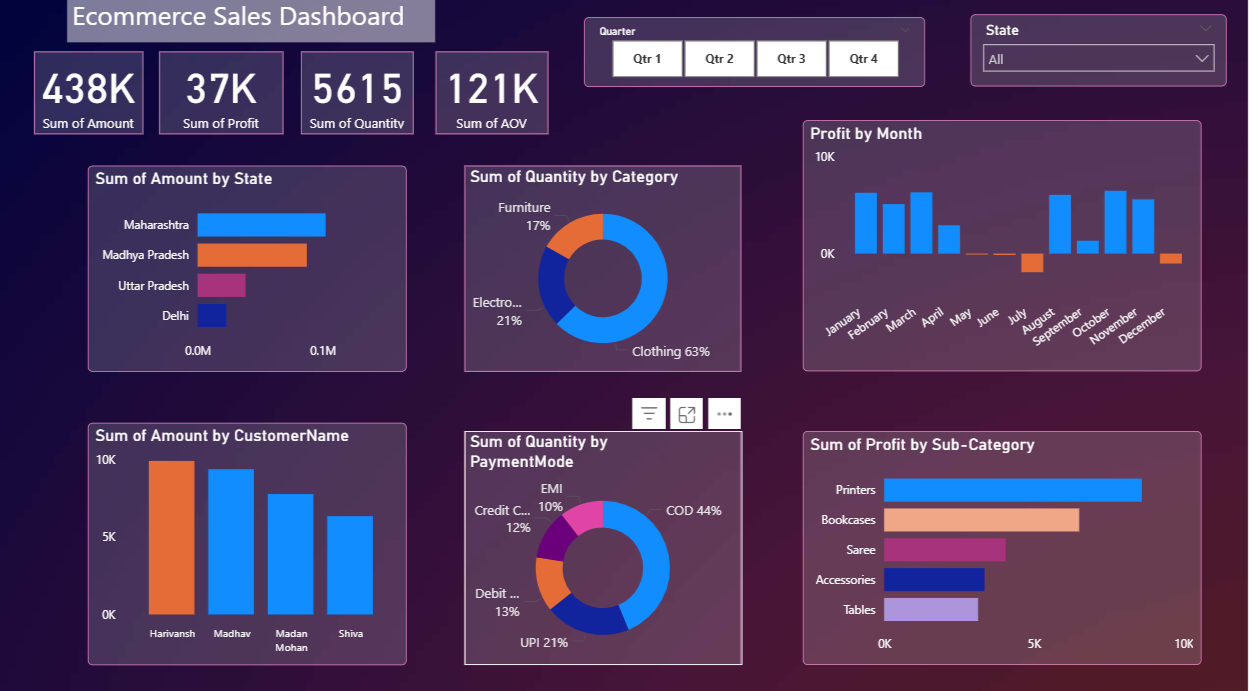

Layout of this report page (visuals, bound fields, positions):
{"tool":"powerbi","page":{"name":"Page 1","canvas":[1280,720],"ordinal":0},"visuals":[{"type":"textbox","box":[76.2,0,375,52.5],"z":0},{"type":"columnChart","title":"Profit by Month","fields":{"Y":["Sum(Details.Profit)"],"Category":["Orders.Order Date.Variation.Date Hierarchy.Month"]},"box":[826.2,131.2,406.2,256.2],"z":1000},{"type":"barChart","fields":{"Category":["Details.Sub-Category"],"Y":["Sum(Details.Profit)"]},"box":[826.2,448.8,406.2,238.8],"z":2000},{"type":"donutChart","fields":{"Category":["Details.Category"],"Y":["Sum(Details.Quantity)"]},"box":[481.2,177.5,282.5,210],"z":3000},{"type":"donutChart","fields":{"Category":["Details.PaymentMode"],"Y":["Sum(Details.Quantity)"]},"box":[481.2,448.8,282.5,238.8],"z":4000},{"type":"card","fields":{"Values":["Sum(Details.Amount)"]},"box":[42.7,61.8,110.9,84.5],"z":5000},{"type":"card","fields":{"Values":["Sum(Details.Quantity)"]},"box":[314.5,61.8,114.5,84.5],"z":6000},{"type":"card","fields":{"Values":["Sum(Details.Profit)"]},"box":[169.1,61.8,126.4,84.5],"z":7000},{"type":"card","fields":{"Values":["Sum(Details.AOV)"]},"box":[451.8,61.8,114.5,84.5],"z":8000},{"type":"barChart","fields":{"Y":["Sum(Details.Amount)"],"Category":["Orders.State"]},"box":[96.2,177.5,325,210],"z":9000},{"type":"columnChart","fields":{"Category":["Orders.CustomerName"],"Y":["Sum(Details.Amount)"]},"box":[96.2,440,325,247.5],"z":10000},{"type":"slicer","fields":{"Values":["Orders.Order Date.Variation.Date Hierarchy.Quarter"]},"box":[602.5,26.2,347.5,71.2],"z":11000},{"type":"slicer","fields":{"Values":["Orders.State"]},"box":[997.5,23.8,261.2,73.8],"z":12000}]}

Visuals, with their boxes in screenshot pixels (x1, y1, x2, y2), scaled from the page's 1280x720 canvas onto the 1249x691 screenshot:
textbox: pyautogui.locateOnScreen(74, 0, 440, 50)
"Profit by Month" columnChart: pyautogui.locateOnScreen(806, 126, 1203, 372)
barChart - Details.Sub-Category x Sum(Details.Profit): pyautogui.locateOnScreen(806, 431, 1203, 660)
donutChart - Details.Category x Sum(Details.Quantity): pyautogui.locateOnScreen(470, 170, 745, 372)
donutChart - Details.PaymentMode x Sum(Details.Quantity): pyautogui.locateOnScreen(470, 431, 745, 660)
card - Sum(Details.Amount): pyautogui.locateOnScreen(42, 59, 150, 140)
card - Sum(Details.Quantity): pyautogui.locateOnScreen(307, 59, 419, 140)
card - Sum(Details.Profit): pyautogui.locateOnScreen(165, 59, 288, 140)
card - Sum(Details.AOV): pyautogui.locateOnScreen(441, 59, 553, 140)
barChart - Sum(Details.Amount) x Orders.State: pyautogui.locateOnScreen(94, 170, 411, 372)
columnChart - Orders.CustomerName x Sum(Details.Amount): pyautogui.locateOnScreen(94, 422, 411, 660)
slicer - Orders.Order Date.Variation.Date Hierarchy.Quarter: pyautogui.locateOnScreen(588, 25, 927, 93)
slicer - Orders.State: pyautogui.locateOnScreen(973, 23, 1228, 94)
